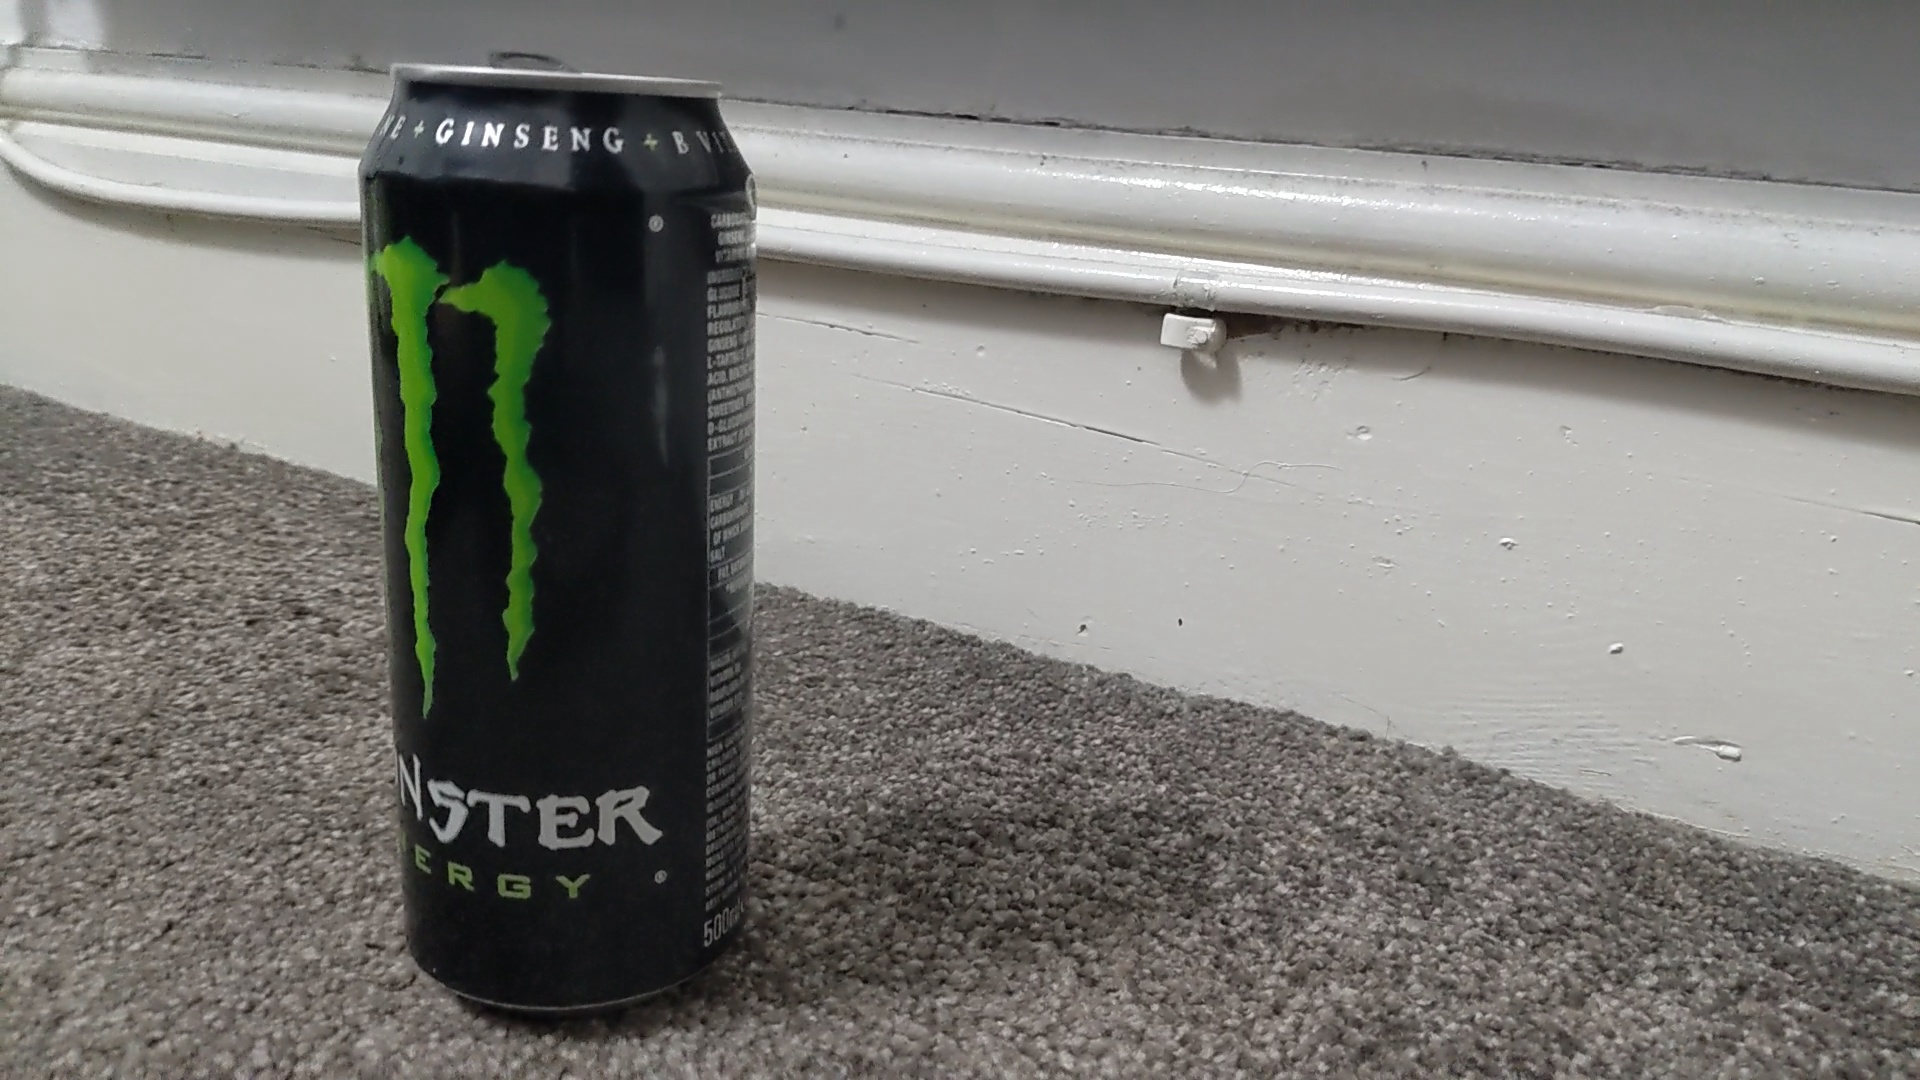monster-original: (357, 62, 757, 1011)
